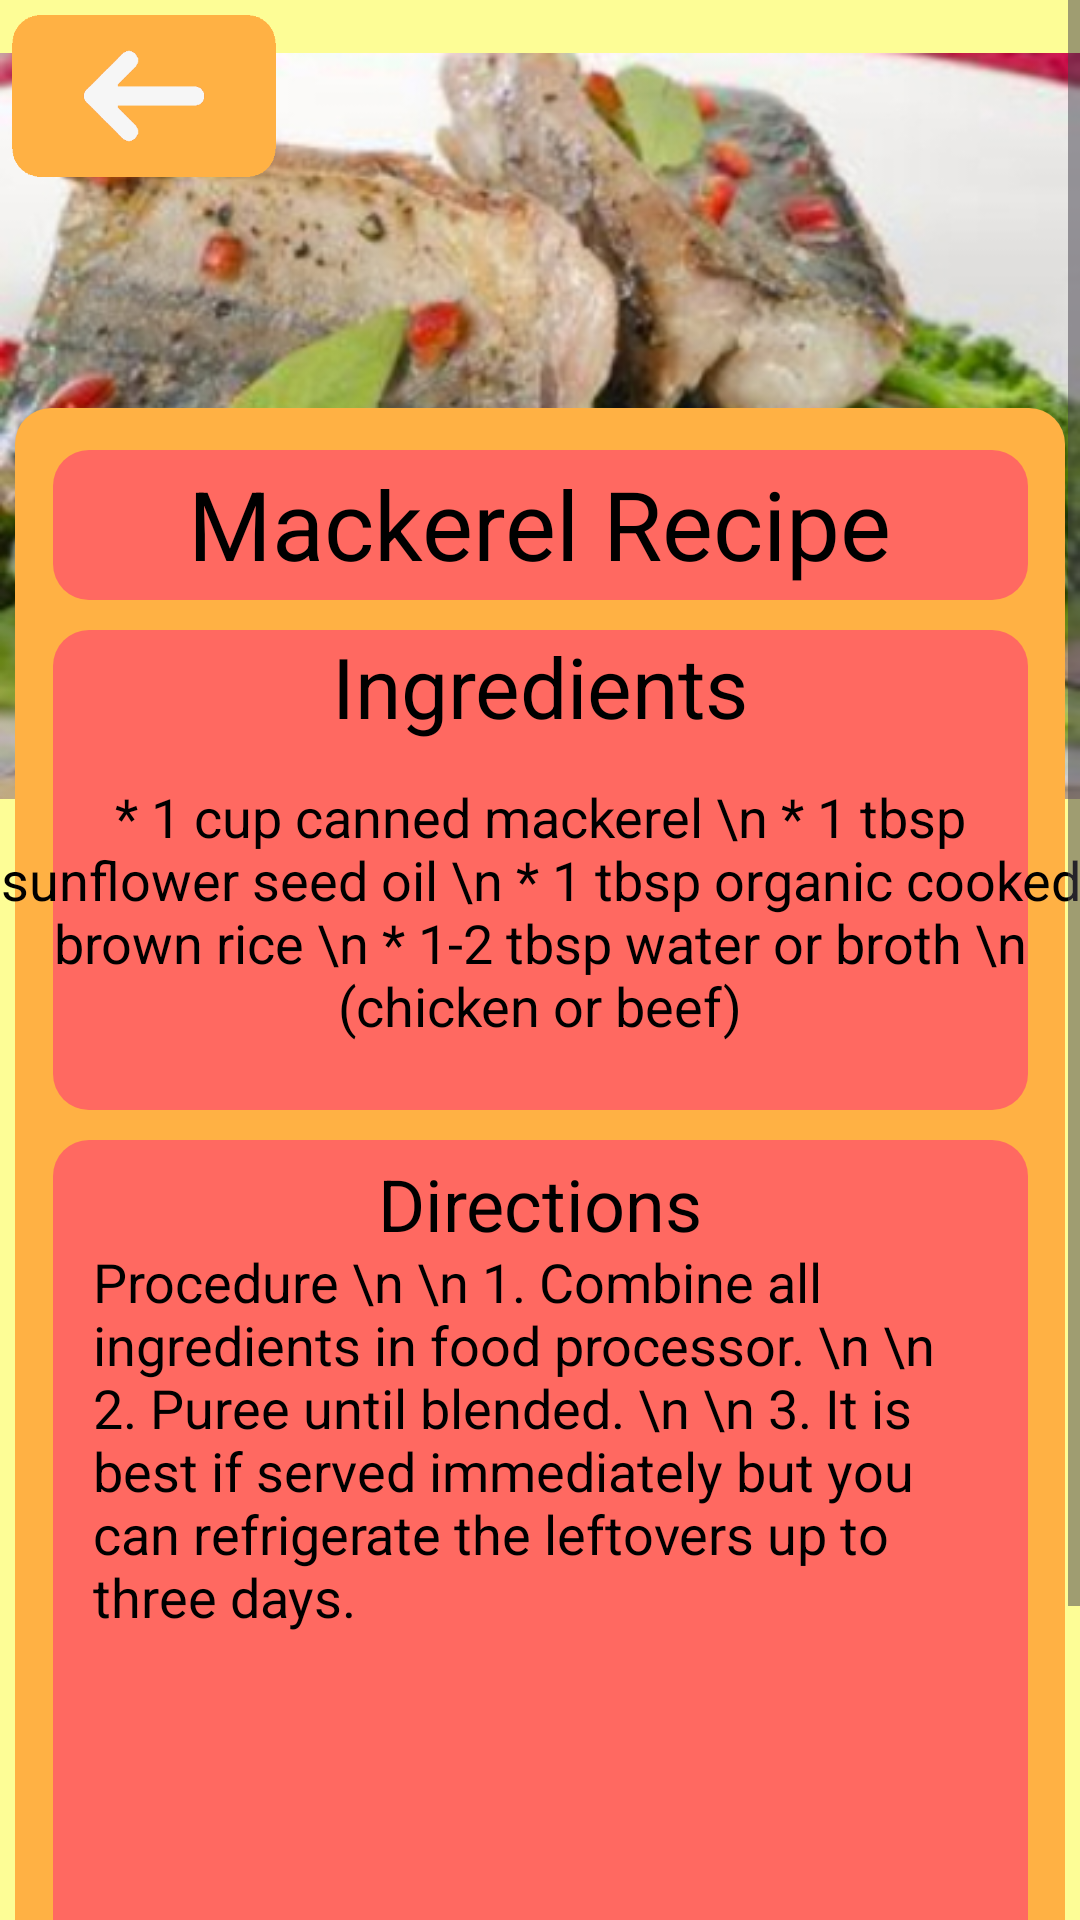

Point at icon controls on the screen. Image size 1080x1920, points as (x=x, y=y).
backred: (x=144, y=96)
